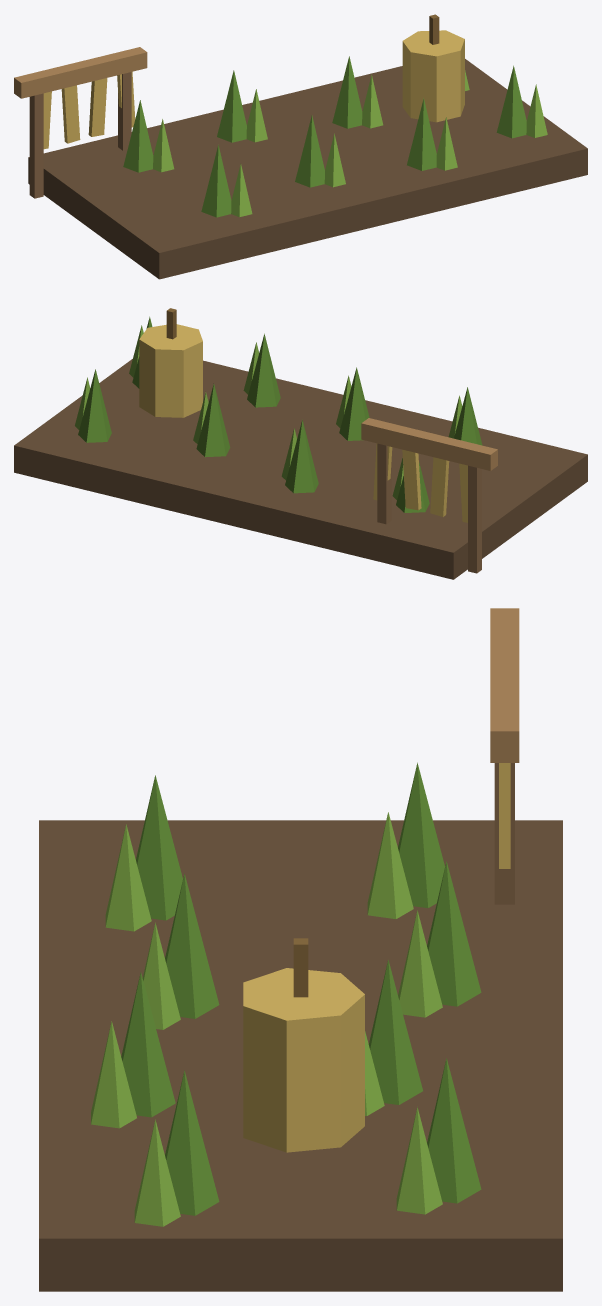
Rendered from fiberfarm.glb.
3 views of the same model, one above another, from view 1: azimuth 30°, elevation 25°; view 2: azimuth 150°, elevation 25°; view 3: azimuth 270°, elevation 25° (orthographic). The views are drawn at different scales.
Parts seen in each view (by area): view 1: M_b0, M_b1, M_b3, M_b2, M_b6, M_b5; view 2: M_b0, M_b1, M_b3, M_b6, M_b5, M_b2; view 3: M_b0, M_b1, M_b3, M_b2, M_b6, M_b5, M_b4.
Boxes of the visible parts, x1,y1,x2,y2 form: M_b0: (28,59,587,279); M_b1: (123,56,526,217); M_b3: (43,30,464,149); M_b2: (153,70,547,217); M_b6: (14,47,147,98); M_b5: (29,72,131,198); M_b0: (14,359,587,579); M_b1: (78,316,482,512); M_b3: (139,324,467,522); M_b6: (361,418,497,470); M_b5: (377,443,481,573); M_b2: (75,325,462,499); M_b0: (39,820,562,1291); M_b1: (121,762,481,1215); M_b3: (243,763,510,1152); M_b2: (91,812,442,1226); M_b6: (490,608,519,762); M_b5: (494,763,514,904); M_b4: (293,938,308,997).
Size of the model in its own units: 3.6 by 1 by 1.8.
